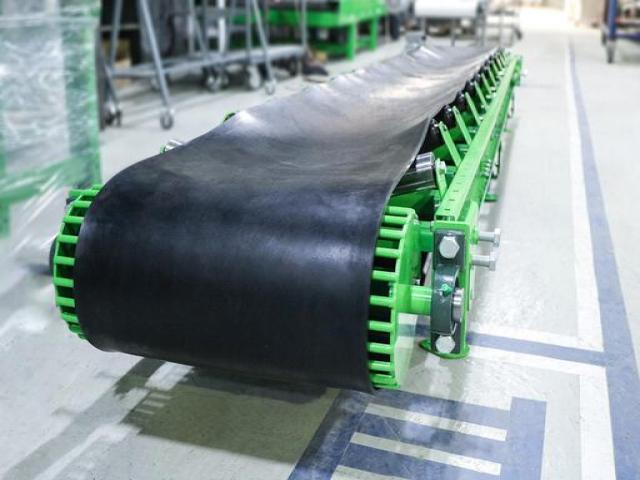conveyor: (46, 32, 524, 396)
